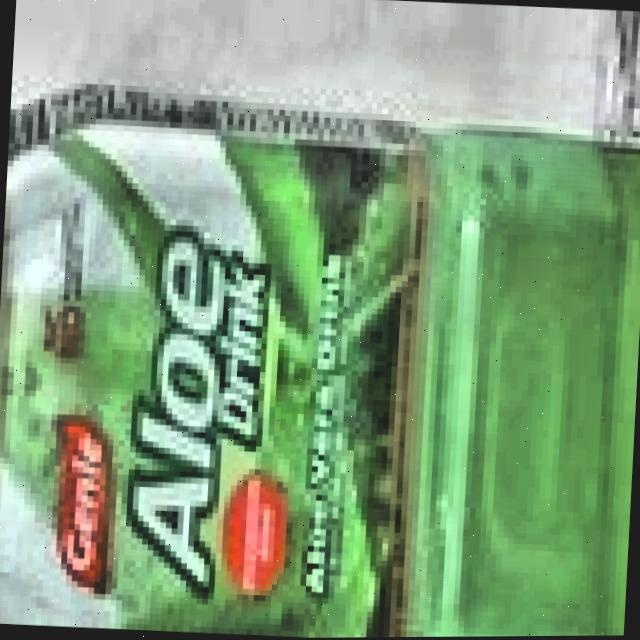plastic: (0, 53, 640, 640)
